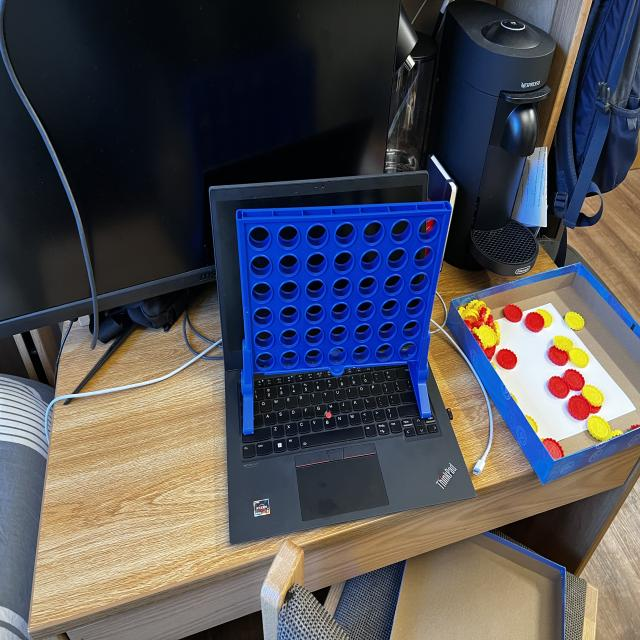Board: (236, 202, 447, 372)
No Piece: (389, 215, 414, 245), (333, 219, 359, 247), (361, 219, 387, 247), (306, 222, 330, 250), (331, 250, 356, 276), (385, 246, 410, 272), (248, 224, 272, 251), (248, 255, 274, 279), (277, 225, 301, 250), (250, 280, 274, 305), (277, 253, 302, 277), (328, 300, 352, 325), (304, 252, 328, 276), (330, 277, 354, 301), (358, 249, 382, 273), (382, 273, 406, 297), (412, 246, 436, 270), (356, 275, 381, 298), (379, 297, 404, 320), (252, 306, 276, 329), (354, 299, 378, 322), (304, 301, 326, 326), (418, 217, 440, 242), (252, 350, 276, 372), (304, 278, 328, 300), (408, 272, 430, 295), (400, 318, 422, 341), (326, 346, 350, 367), (302, 326, 327, 346), (278, 281, 300, 303), (328, 324, 350, 346), (253, 329, 276, 350), (352, 322, 376, 342), (351, 343, 372, 365), (376, 321, 398, 342), (406, 296, 426, 319), (279, 348, 300, 369), (301, 348, 324, 367), (279, 328, 300, 348), (374, 342, 394, 363), (397, 340, 418, 360), (280, 306, 299, 326)
